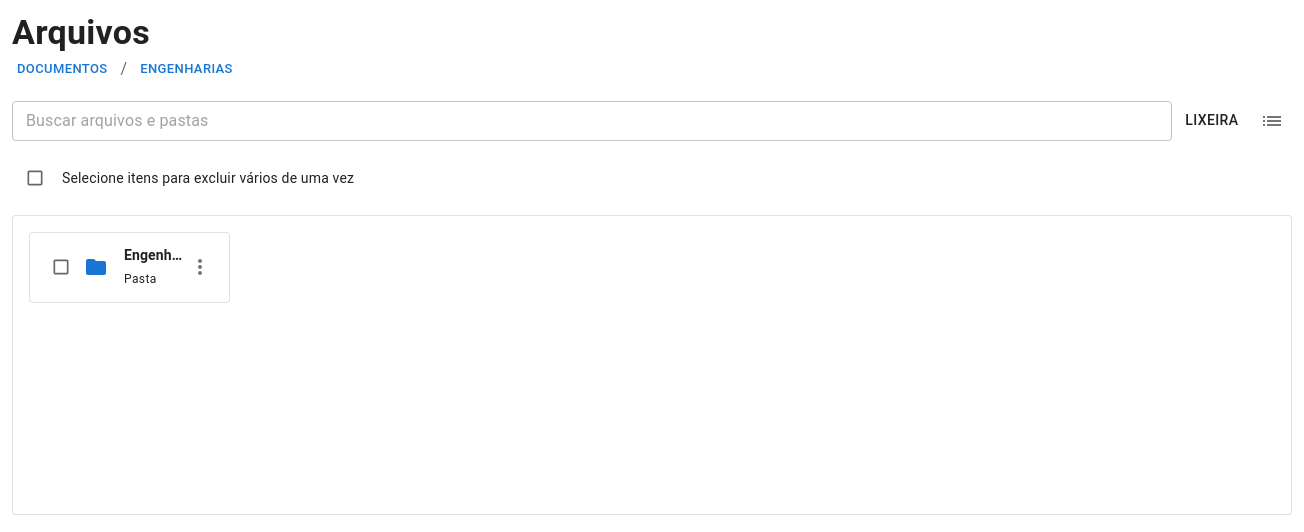
Test case: FilesPage envio de pastas › recria a arvore da pasta enviada reaproveitando a pasta ja existente
This screenshot has width=1304, height=532.
Double-click the text "Engenharias" at point(154, 255), box [124,245,183,266]
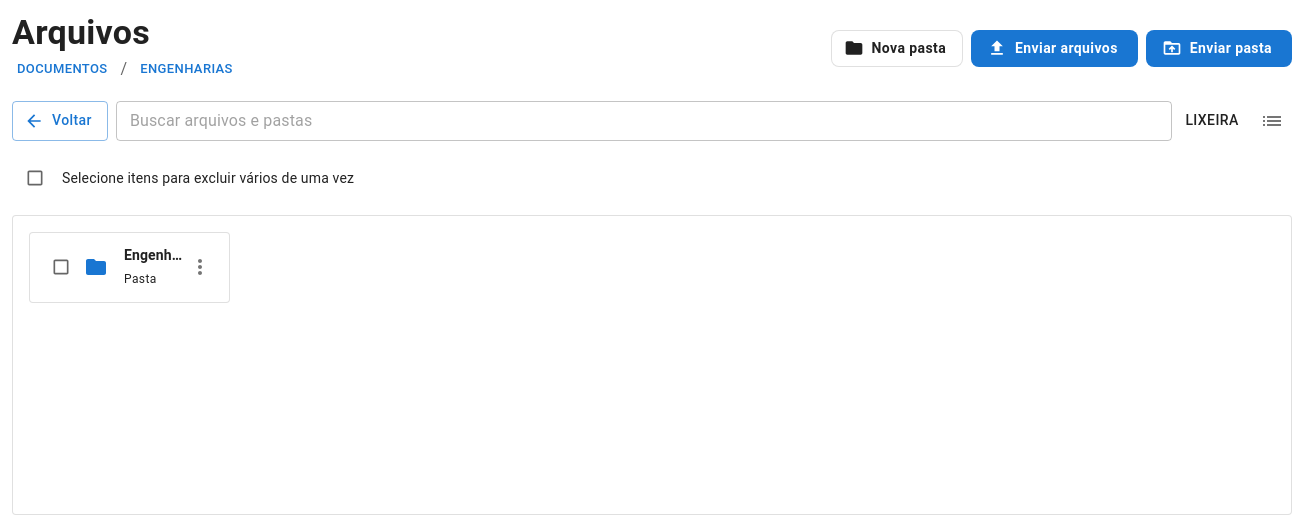
Expected: the button "Enviar pasta" is shown, [1146,30,1292,67]
